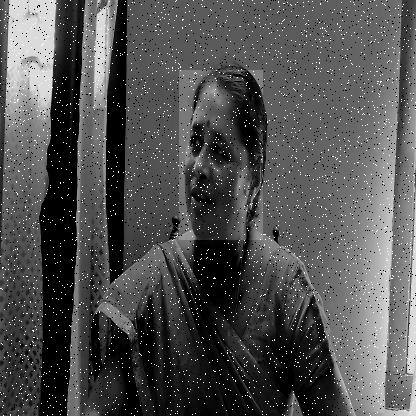Distracted: (178, 70, 262, 240)
